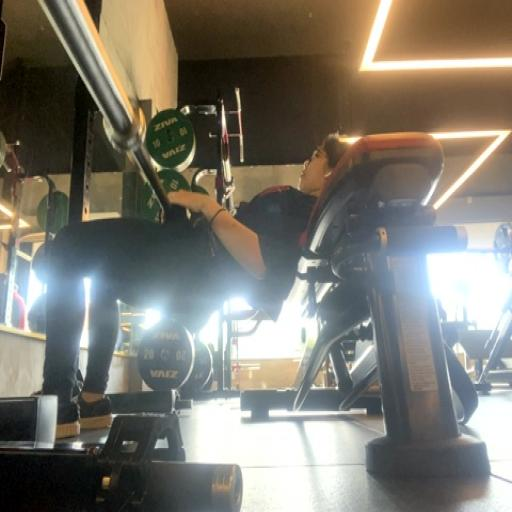exercise: (31, 129, 353, 438)
